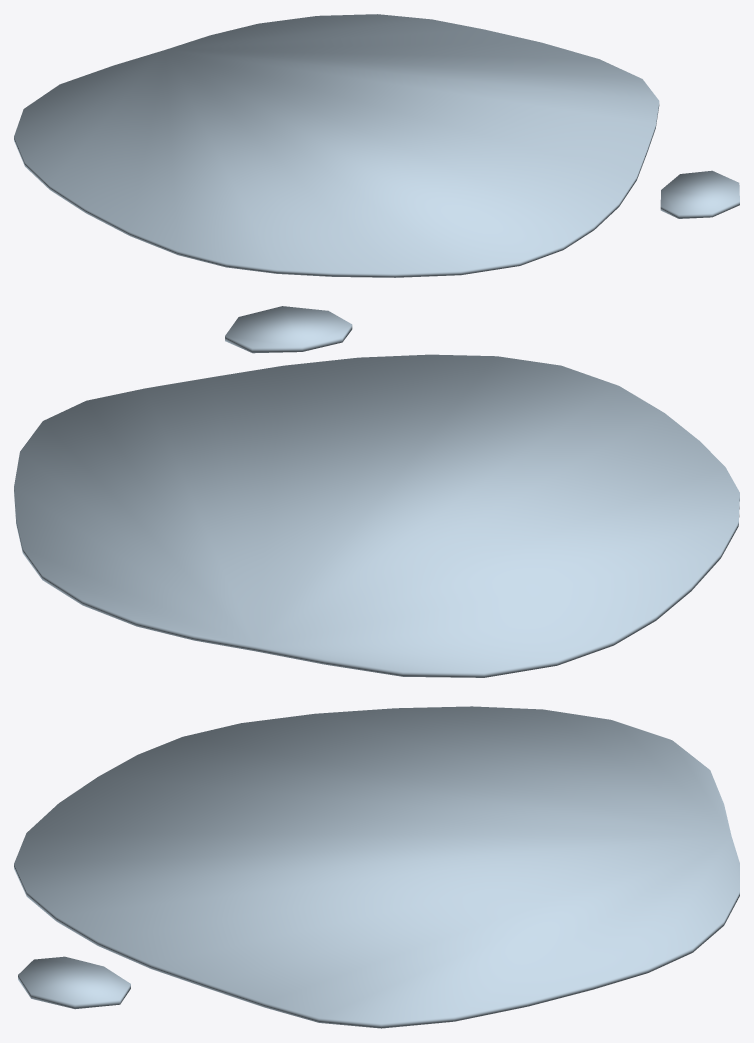
The model's file is puddle_1.fbx.
3 renders of one model, top to bottom at view 1: azimuth 30°, elevation 25°; view 2: azimuth 150°, elevation 25°; view 3: azimuth 270°, elevation 25°, orthographic. The views are drawn at different scales.
Parts seen in each view (by area): view 1: Puddle_1; view 2: Puddle_1; view 3: Puddle_1.
Part boxes in pixels (left/top/right/bottom): Puddle_1: left=14, top=14, right=739, bottom=277; Puddle_1: left=14, top=306, right=739, bottom=677; Puddle_1: left=14, top=706, right=739, bottom=1028.
Bounding box in the file's own units: 2637 × 20 × 2726.
